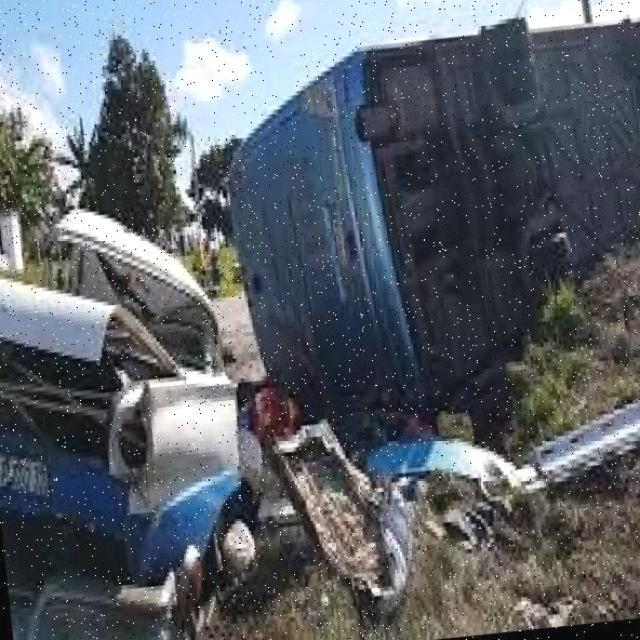accident: (205, 42, 640, 394), (0, 146, 254, 627)
